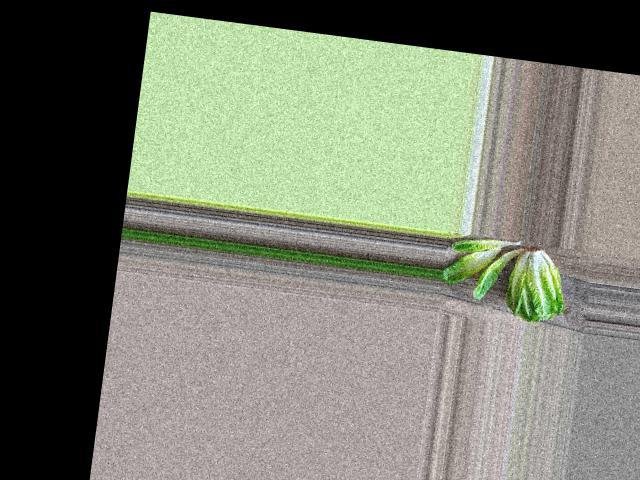lettuce: (500, 247, 572, 325)
